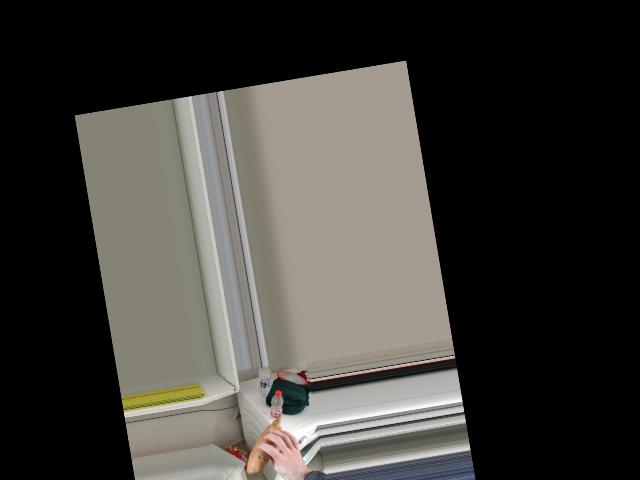sweet_potato: (241, 418, 298, 468)
